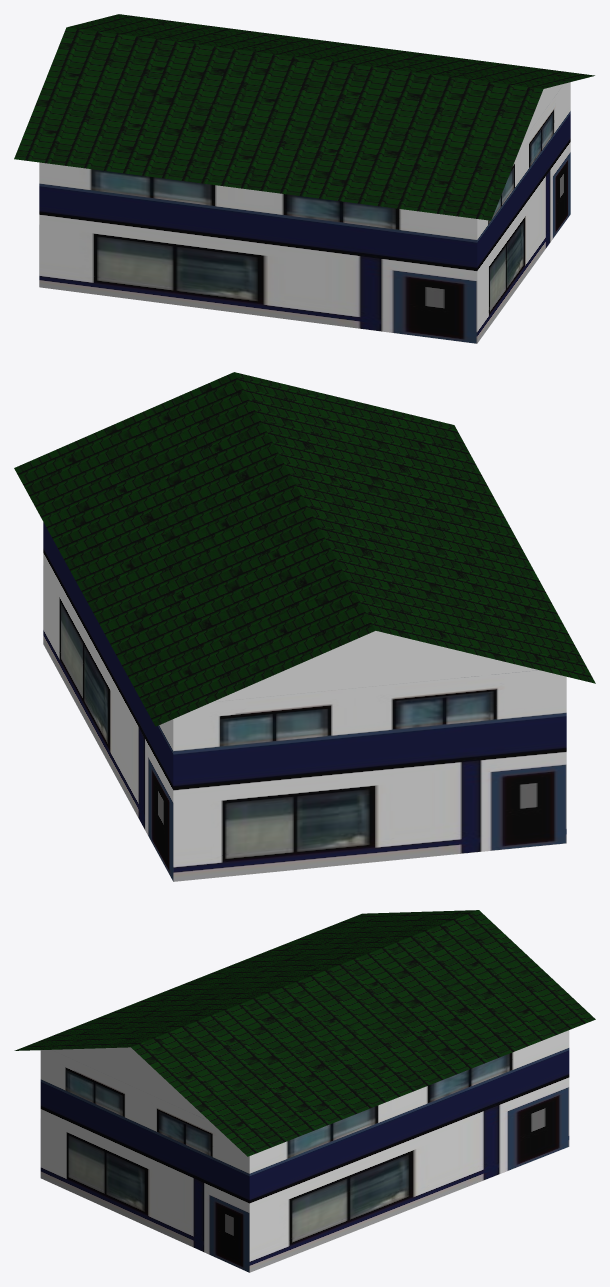
3 renders of one model, top to bottom at view 1: azimuth 30°, elevation 25°; view 2: azimuth 150°, elevation 25°; view 3: azimuth 270°, elevation 25°, orthographic. The views are drawn at different scales.
Visible parts, largest first — view 1: CityEngineMaterial_13_m, CityEngineMaterial_2_m, CityEngineMaterial_3_m; view 2: CityEngineMaterial_13_m, CityEngineMaterial_2_m, CityEngineMaterial_3_m; view 3: CityEngineMaterial_13_m, CityEngineMaterial_2_m, CityEngineMaterial_3_m.
Part boxes in pixels (x1,y1,x2,y2): CityEngineMaterial_13_m: (14, 14, 594, 220); CityEngineMaterial_2_m: (39, 82, 570, 343); CityEngineMaterial_3_m: (523, 84, 563, 139); CityEngineMaterial_13_m: (14, 372, 595, 726); CityEngineMaterial_2_m: (43, 522, 566, 881); CityEngineMaterial_3_m: (213, 631, 538, 701); CityEngineMaterial_13_m: (14, 910, 595, 1156); CityEngineMaterial_2_m: (40, 1030, 569, 1272); CityEngineMaterial_3_m: (52, 1047, 209, 1121).
Bounding box in the file's own units: 29.43 × 10.38 × 29.76.
